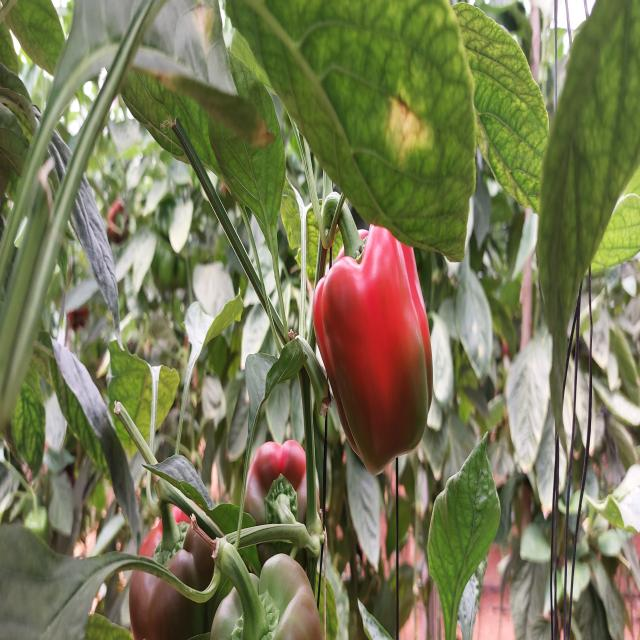BrownishRed--Can-be-Harvested: (232, 422, 322, 600), (125, 502, 232, 631)
Red-Ready-to-Harvest: (312, 237, 449, 479)
